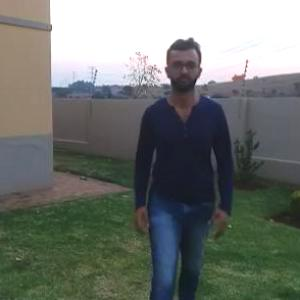follow: (138, 33, 232, 299)
